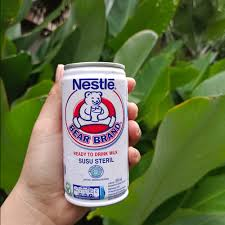Bear Brand Susu Steril (189ml): (53, 57, 131, 205)
